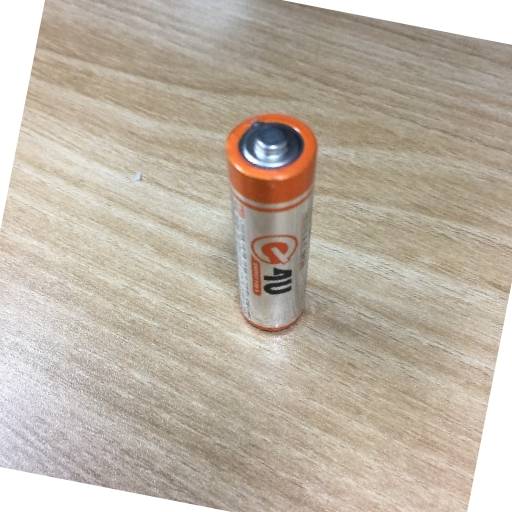Battery_0: (223, 110, 331, 338)
